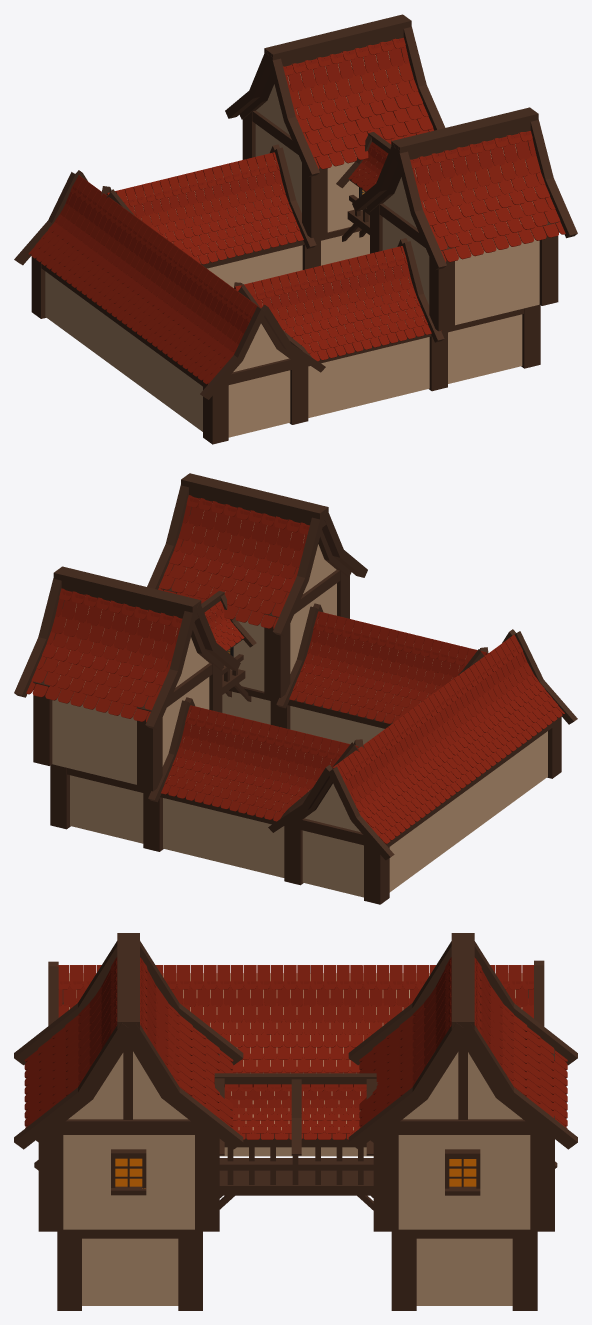
The model's file is 2House.fbx.
3 views of the same model, one above another, from view 1: azimuth 30°, elevation 25°; view 2: azimuth 150°, elevation 25°; view 3: azimuth 270°, elevation 25° (orthographic). The views are drawn at different scales.
Visible parts, largest first — view 1: Cube, Cube.050, Tiles.002, Tiles.007, Tiles.008, Tiles.001, Tiles.004, Tiles.006, Cube.018, Cube.005, Cube.032, Tiles.003 (+2 smaller); view 2: Cube, Cube.050, Tiles.001, Tiles.008, Tiles.007, Tiles.002, Tiles.004, Tiles.006, Cube.018, Cube.032, Cube.005, Tiles.003 (+2 smaller); view 3: Cube.050, Cube, Tiles.004, Tiles.002, Tiles.001, Tiles.006, Cube.006, Tiles.003, Cube.005, Cube.032, Cube.018, Window frame.002 (+3 smaller).
Boxes of the visible parts, x1,y1,x2,y2 form: Cube: (45,51,539,437); Cube.050: (31,14,577,444); Tiles.002: (410,131,565,262); Tiles.007: (234,246,441,361); Tiles.008: (106,152,303,264); Tiles.001: (283,37,433,169); Tiles.004: (28,175,179,328); Tiles.006: (131,249,260,384); Cube.018: (14,144,444,399); Cube.005: (228,98,425,384); Cube.032: (41,264,523,386); Tiles.003: (348,142,388,191); Cube: (52,511,547,897); Cube.050: (14,473,561,904); Tiles.001: (26,588,182,721); Tiles.008: (161,705,358,821); Tiles.007: (289,611,486,723); Tiles.002: (158,495,309,628); Tiles.004: (332,694,485,843); Tiles.006: (433,634,564,770); Cube.018: (148,603,577,860); Cube.032: (67,723,552,846); Cube.005: (167,570,363,845); Tiles.003: (204,601,244,650); Cube.050: (14,933,577,1310); Cube: (63,973,530,1305); Tiles.004: (264,965,534,1073); Tiles.002: (24,957,233,1128); Tiles.001: (359,957,567,1128); Tiles.006: (57,965,269,1073); Cube.006: (219,1133,373,1210); Tiles.003: (224,1084,366,1139); Cube.005: (63,1044,530,1134); Cube.032: (82,1229,512,1238); Cube.018: (34,960,557,1170); Window frame.002: (445,1149,480,1195).
Size of the model in its own units: 1184 by 715 by 1210.
